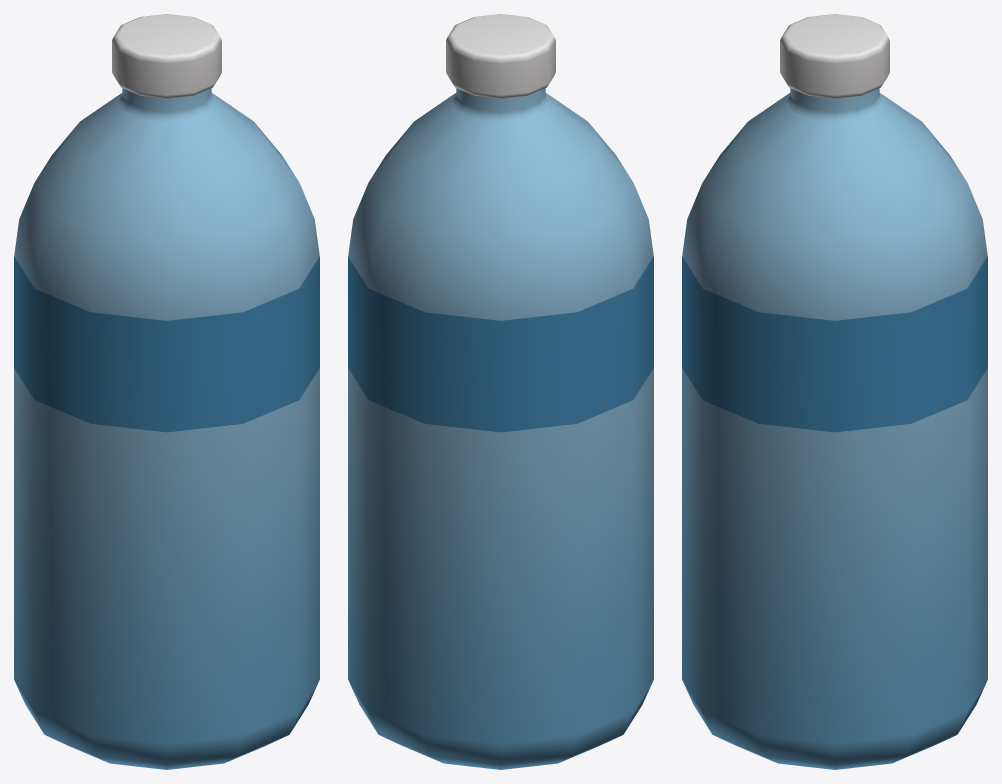
The model's file is Bottle.fbx.
3 renders of one model, left to right at view 1: azimuth 30°, elevation 25°; view 2: azimuth 150°, elevation 25°; view 3: azimuth 270°, elevation 25°, orthographic.
Visible parts, largest first — view 1: Bottle; view 2: Bottle; view 3: Bottle.
Boxes of the visible parts, <box> form: Bottle: <box>14,14,319,769</box>; Bottle: <box>348,14,653,769</box>; Bottle: <box>682,14,987,769</box>.
Bounding box in the file's own units: 40 × 99.18 × 40.
